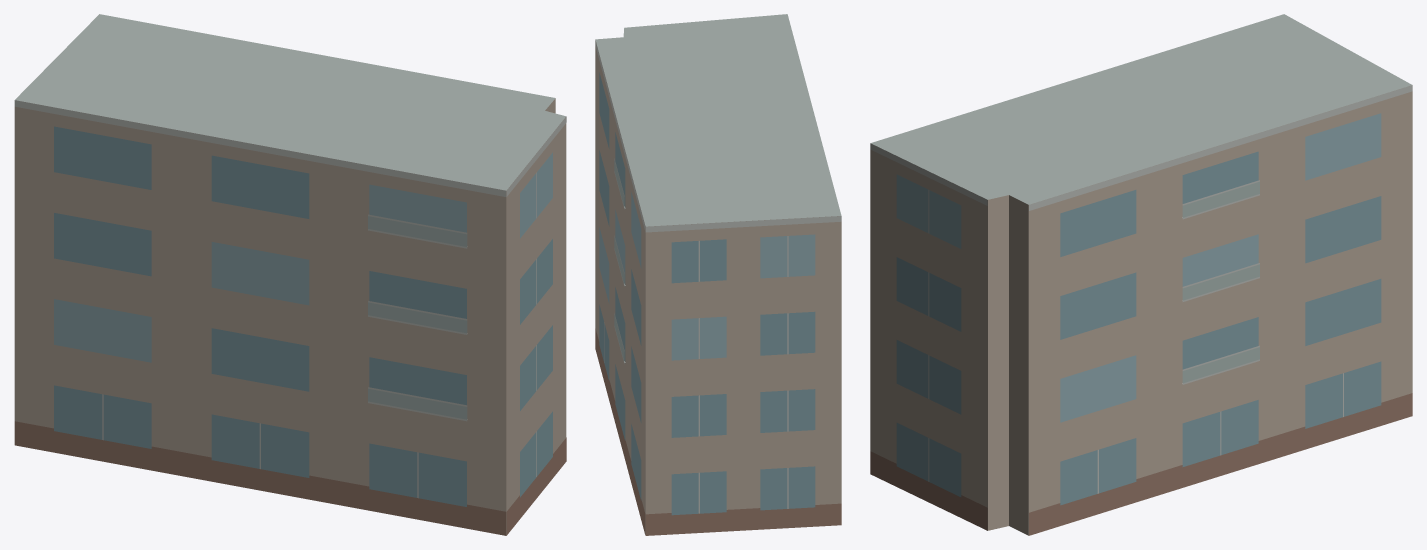
The model's file is survey-upis-32983006.glb.
The picture shows the model from 3 angles, left to right: view 1: azimuth 30°, elevation 25°; view 2: azimuth 150°, elevation 25°; view 3: azimuth 270°, elevation 25°; orthographic projection. The views are drawn at different scales.
Visible parts, largest first — view 1: survey-upis-32983006.tmp; view 2: survey-upis-32983006.tmp; view 3: survey-upis-32983006.tmp.
Part boxes in pixels (x1=…): survey-upis-32983006.tmp: x1=14, y1=14, x2=566, y2=535; survey-upis-32983006.tmp: x1=595, y1=14, x2=841, y2=535; survey-upis-32983006.tmp: x1=870, y1=14, x2=1412, y2=535.
Bounding box in the file's own units: 15.84 × 12.8 × 19.01.
